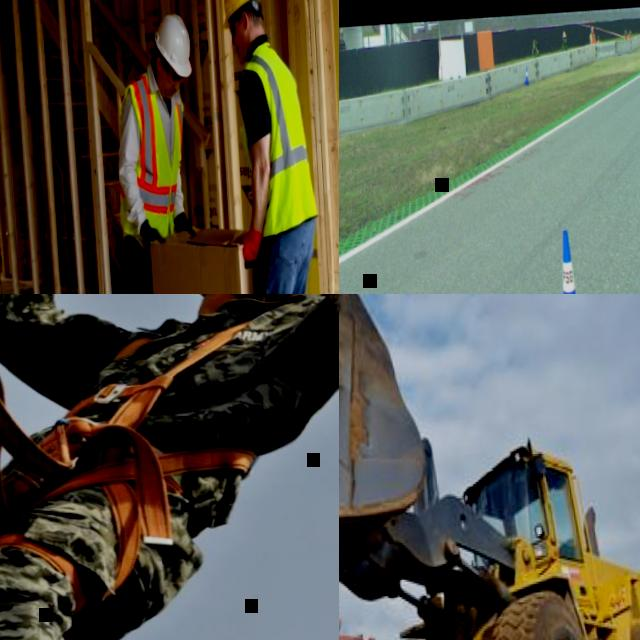Hardhat: (155, 14, 192, 79), (220, 0, 263, 25)
NO-Hardhat: (534, 35, 537, 41), (563, 34, 566, 39), (591, 30, 593, 35)
NO-Mask: (233, 41, 247, 62), (162, 79, 173, 100)
NO-Safety Vest: (63, 303, 299, 567), (532, 44, 538, 58), (562, 39, 567, 51)
Person: (0, 294, 339, 640), (219, 0, 336, 294), (98, 9, 213, 294), (532, 33, 540, 59), (561, 33, 567, 52), (589, 29, 595, 45), (624, 32, 629, 43), (596, 38, 600, 46), (629, 33, 632, 39)
Safety Cone: (550, 229, 586, 294), (525, 69, 529, 87)
Safety Vest: (238, 42, 319, 237), (110, 70, 190, 252), (590, 35, 595, 47), (629, 35, 632, 40), (597, 40, 600, 45)
vehicle: (339, 294, 640, 640)
